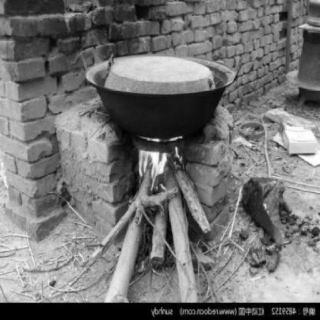Fire: (136, 130, 186, 184)
